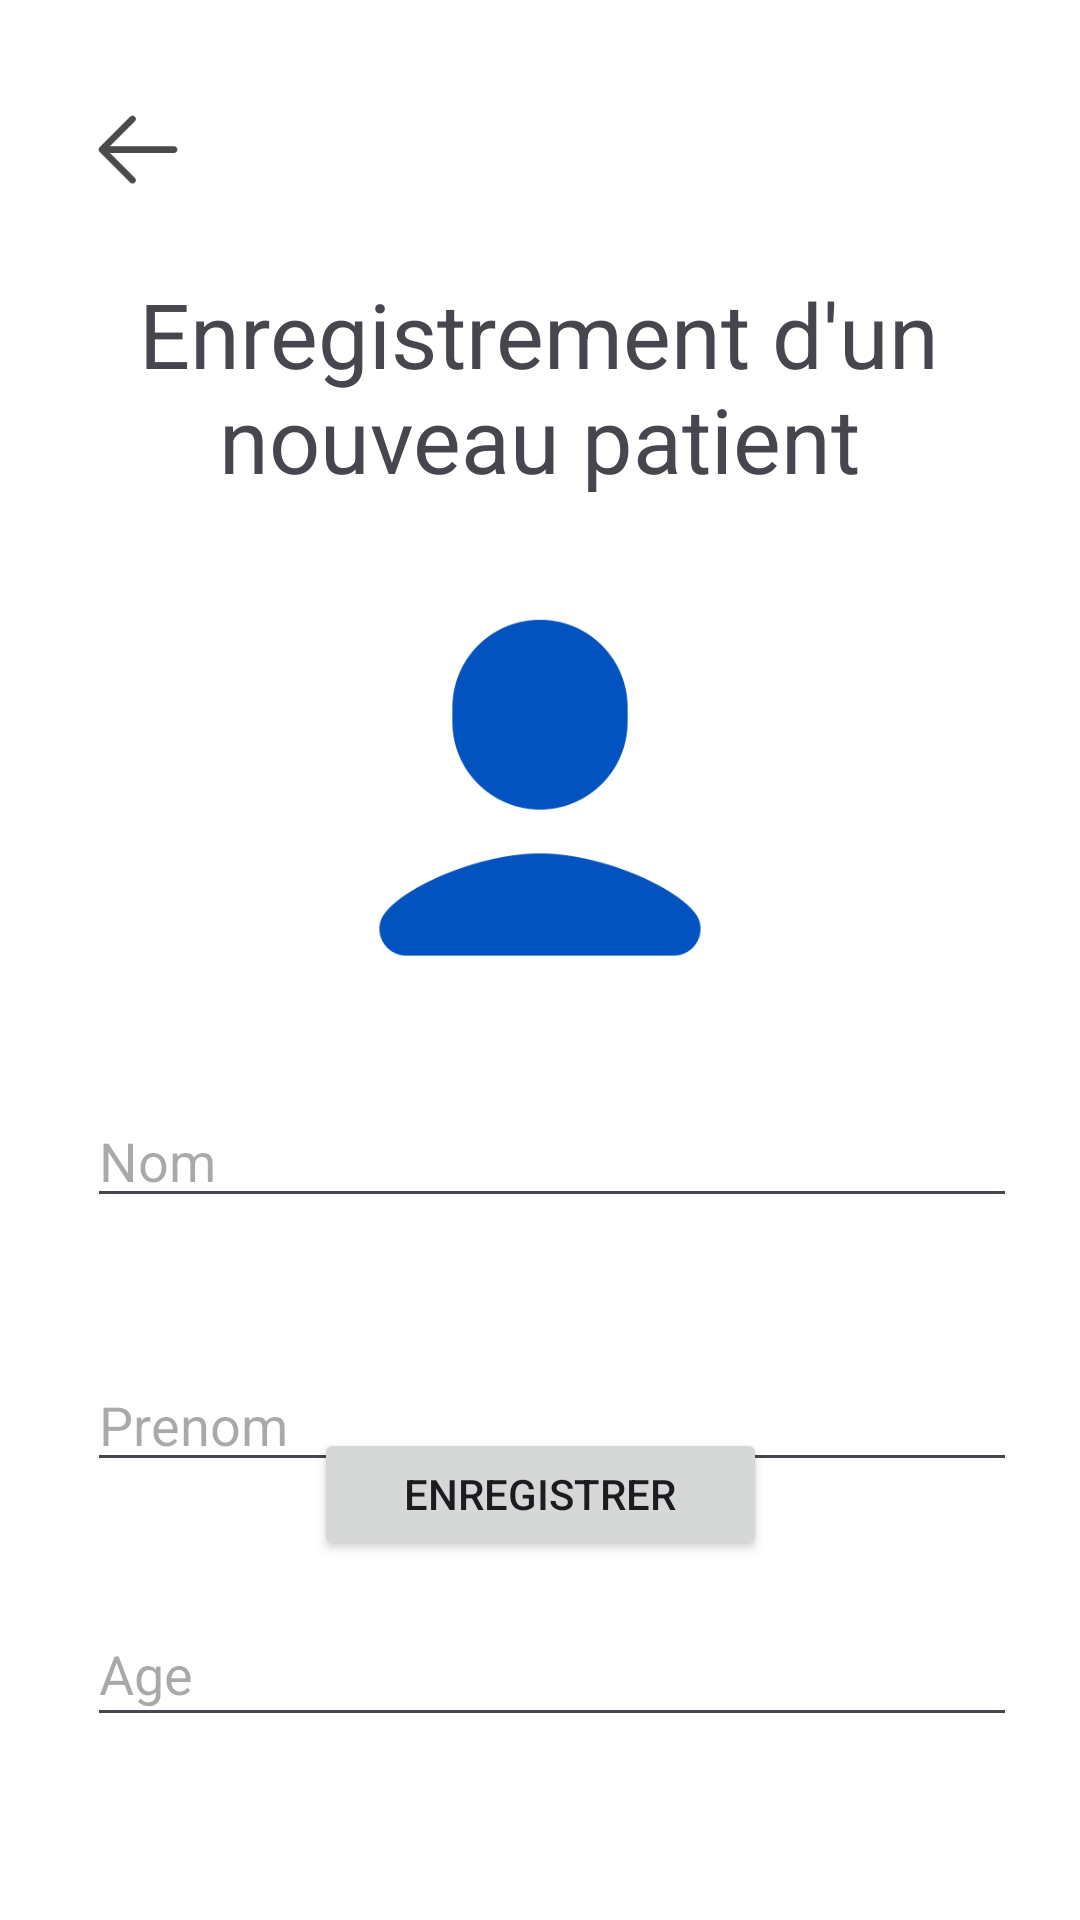

Locate icon controls on the screen. Image size 1080px×1920px, boxes as bbox=(x1, y1, x2, y2).
left: bbox=(98, 115, 178, 184)
user: bbox=(379, 619, 701, 956)
